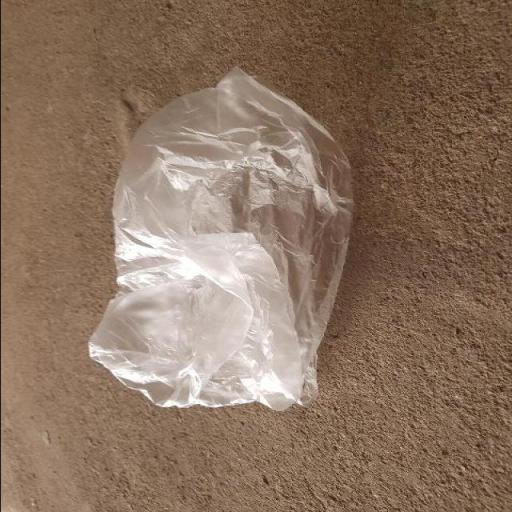plastic-bag: (82, 63, 354, 416)
